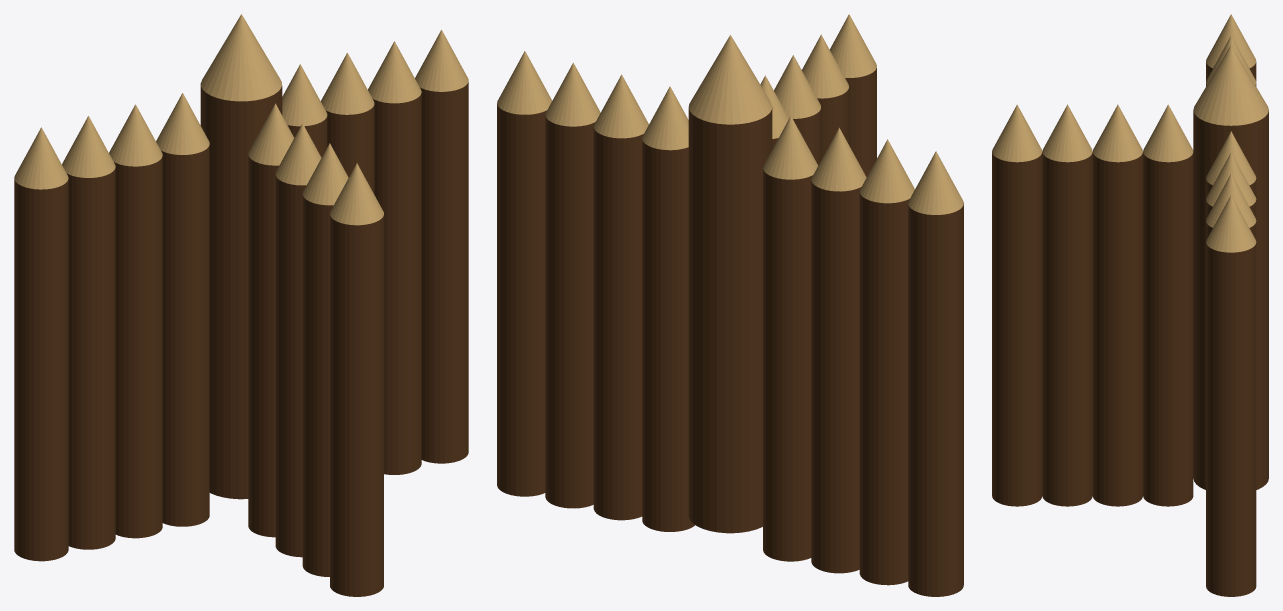
Rendered from lvl1_3.glb.
3 renders of one model, left to right at view 1: azimuth 30°, elevation 25°; view 2: azimuth 150°, elevation 25°; view 3: azimuth 270°, elevation 25°, orthographic. The views are drawn at different scales.
Visible parts, largest first — view 1: Cylinder.023; view 2: Cylinder.023; view 3: Cylinder.023.
Part boxes in pixels (box(x1,y1,x2,y2)): Cylinder.023: box(14, 14, 468, 596); Cylinder.023: box(497, 14, 963, 596); Cylinder.023: box(992, 14, 1268, 596).
Bounding box in the file's own units: 1 × 1.04 × 0.5789.
